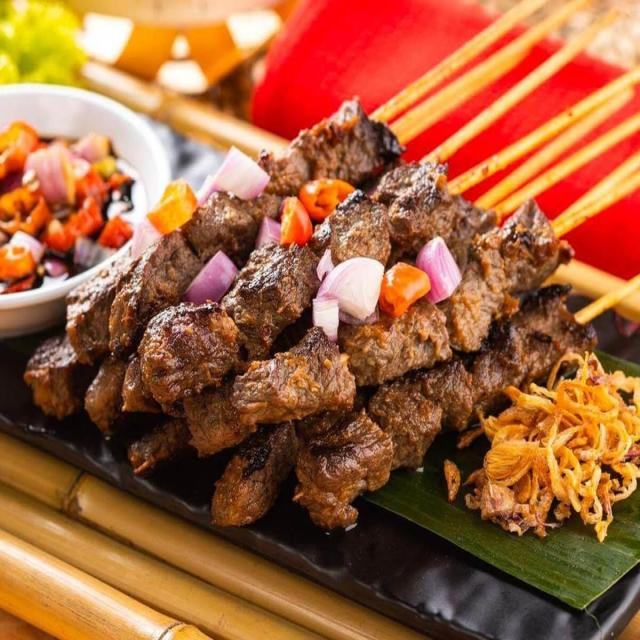Sate: (114, 106, 610, 558)
